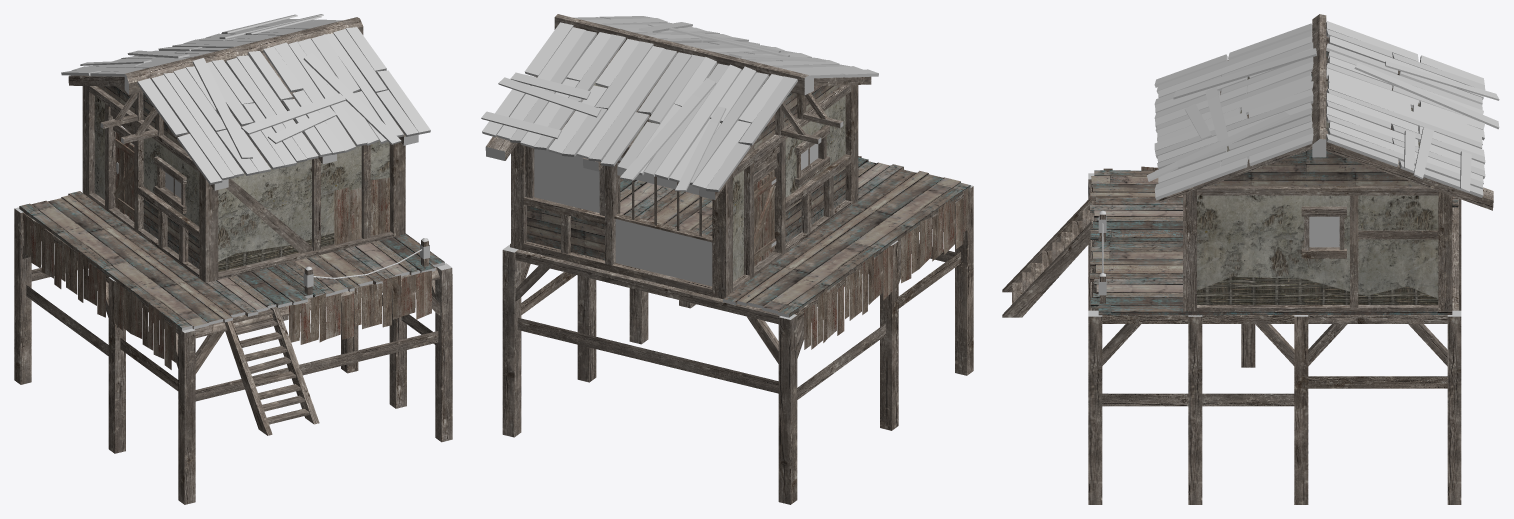
File: House4_LOD1.fbx
3 views of the same model, side by side, from view 1: azimuth 30°, elevation 25°; view 2: azimuth 150°, elevation 25°; view 3: azimuth 270°, elevation 25° (orthographic). The views are drawn at different scales.
Visible parts, largest first — view 1: Base, Stairs, Doors; view 2: Base, Doors; view 3: Base, Stairs.
Boxes of the visible parts, x1,y1,x2,y2 form: Base: (14, 14, 452, 504); Stairs: (224, 306, 319, 435); Doors: (114, 132, 134, 221); Base: (481, 14, 973, 504); Doors: (754, 170, 776, 266); Base: (1088, 14, 1499, 504); Stairs: (1002, 198, 1096, 317).
Size of the model in its own units: 8.95 by 10.03 by 12.09.
